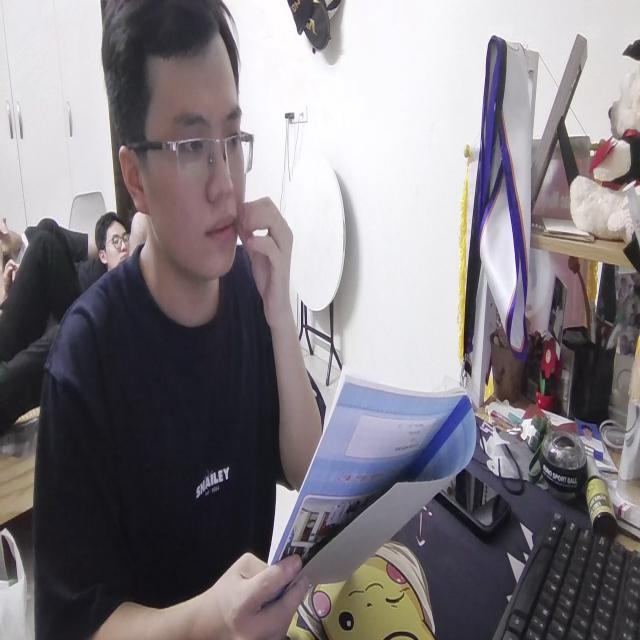book: (260, 356, 478, 582)
extra_person: (0, 209, 88, 400), (91, 206, 147, 270)
phone: (438, 460, 516, 552)
student: (34, 0, 325, 640)
